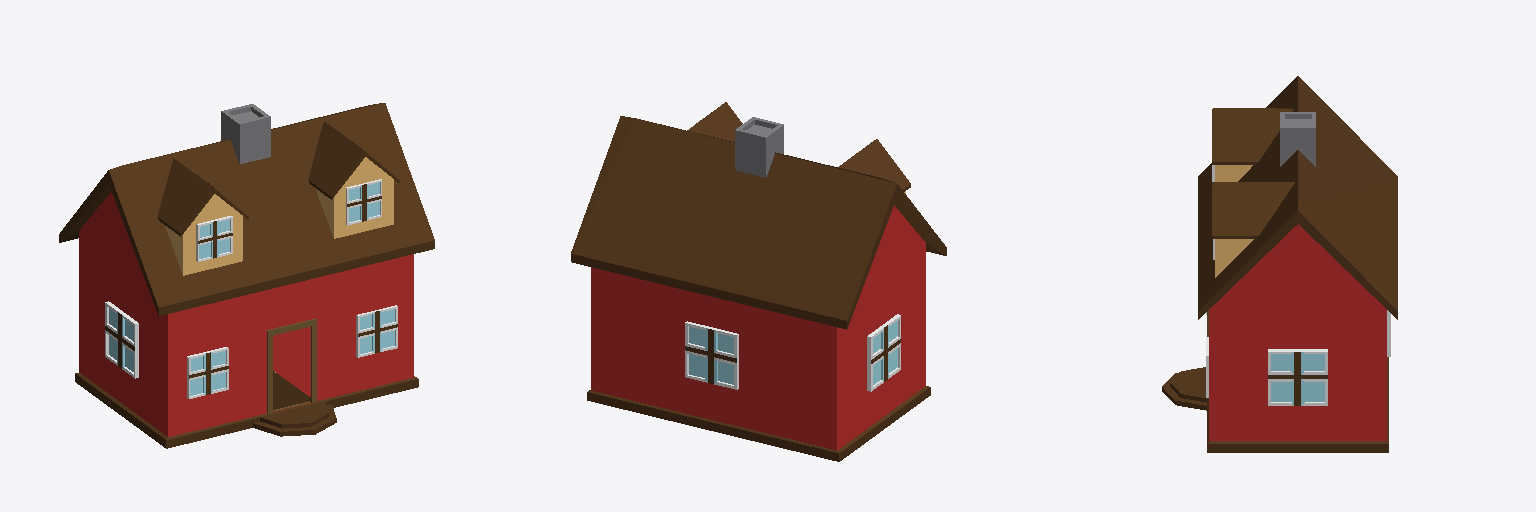
3 renders of one model, left to right at view 1: azimuth 30°, elevation 25°; view 2: azimuth 150°, elevation 25°; view 3: azimuth 270°, elevation 25°, orthographic.
Parts seen in each view (by area): view 1: Low_Poly_House_7_Cube.001; view 2: Low_Poly_House_7_Cube.001; view 3: Low_Poly_House_7_Cube.001.
Boxes of the visible parts, <box> form: Low_Poly_House_7_Cube.001: <box>59,103,434,448</box>; Low_Poly_House_7_Cube.001: <box>571,102,946,461</box>; Low_Poly_House_7_Cube.001: <box>1162,76,1397,452</box>.
Bounding box in the file's own units: 6.89 × 6.45 × 5.1.
1 materials, 1 textured.